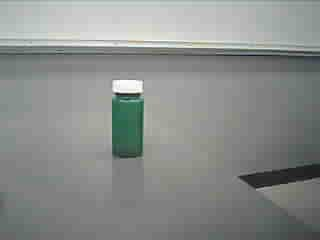Bottle C: (102, 72, 153, 168)
